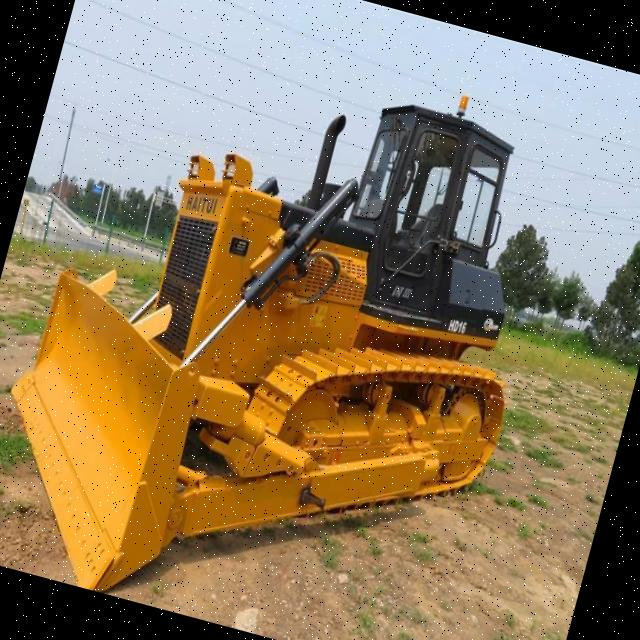Bulldozer: (0, 4, 580, 640)
